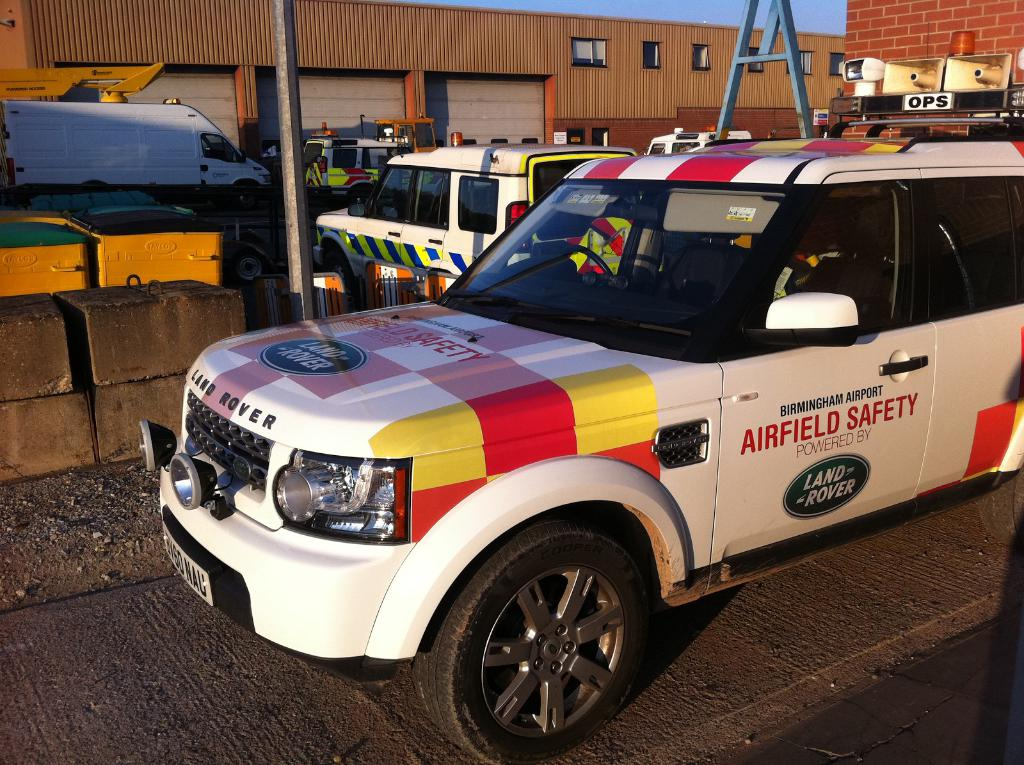Car: (131, 29, 1023, 764), (314, 133, 643, 303), (302, 131, 422, 196), (641, 125, 750, 156)
